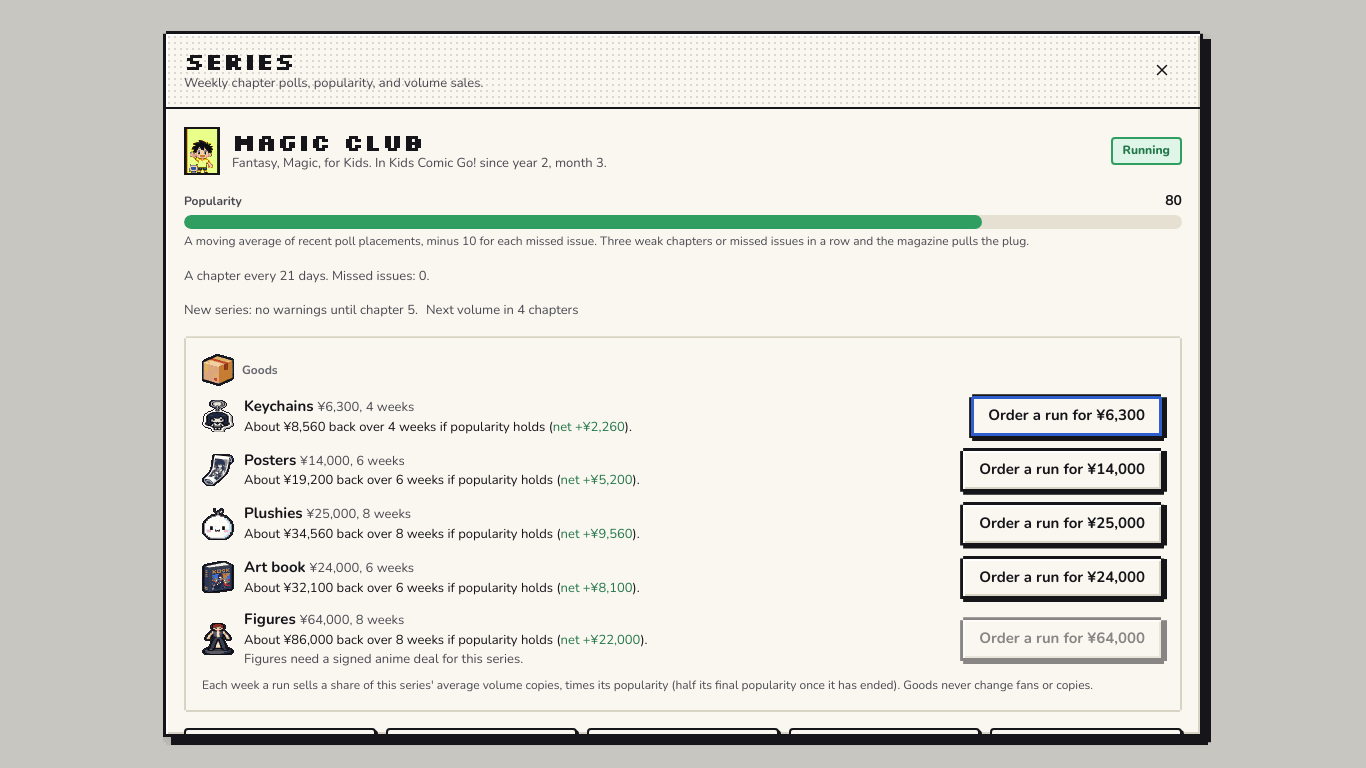
Test case: Series panel goods › orders a run from the button and shows it with weeks left and the money so far
Click the button "Order a run for ¥6,300": click(1067, 416) [969,394,1164,438]
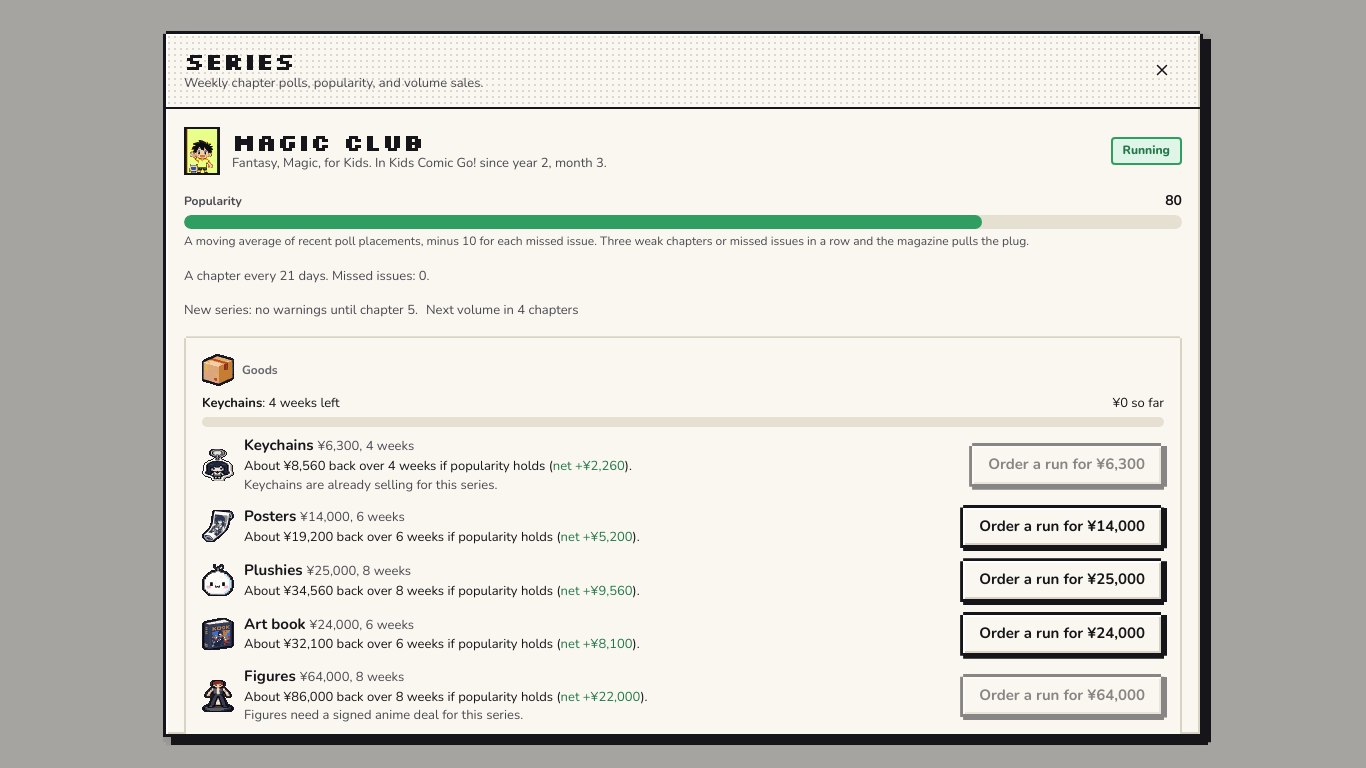
Check: the list item with class "merch-run" shows "Keychains: 4 weeks left", box [202,394,1164,427]
Check: the list item with class "merch-run" shows "¥0 so far", box [202,394,1164,427]
